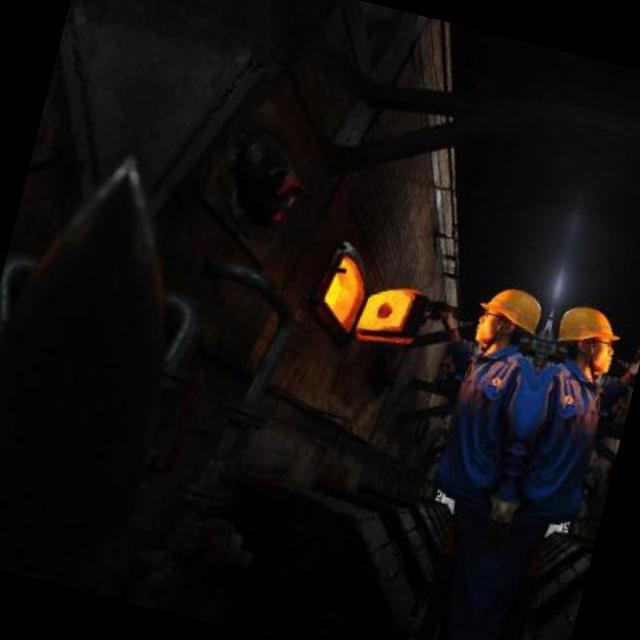helmet: (543, 296, 627, 381), (465, 277, 549, 361)
